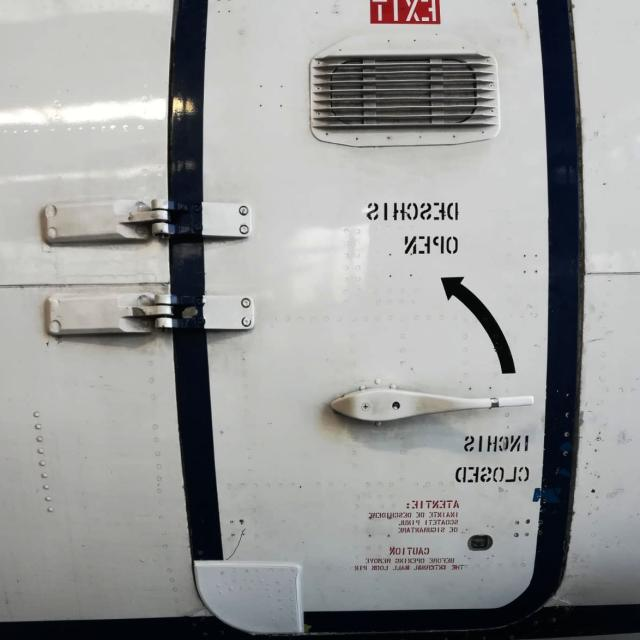Rupture: (222, 520, 252, 562)
